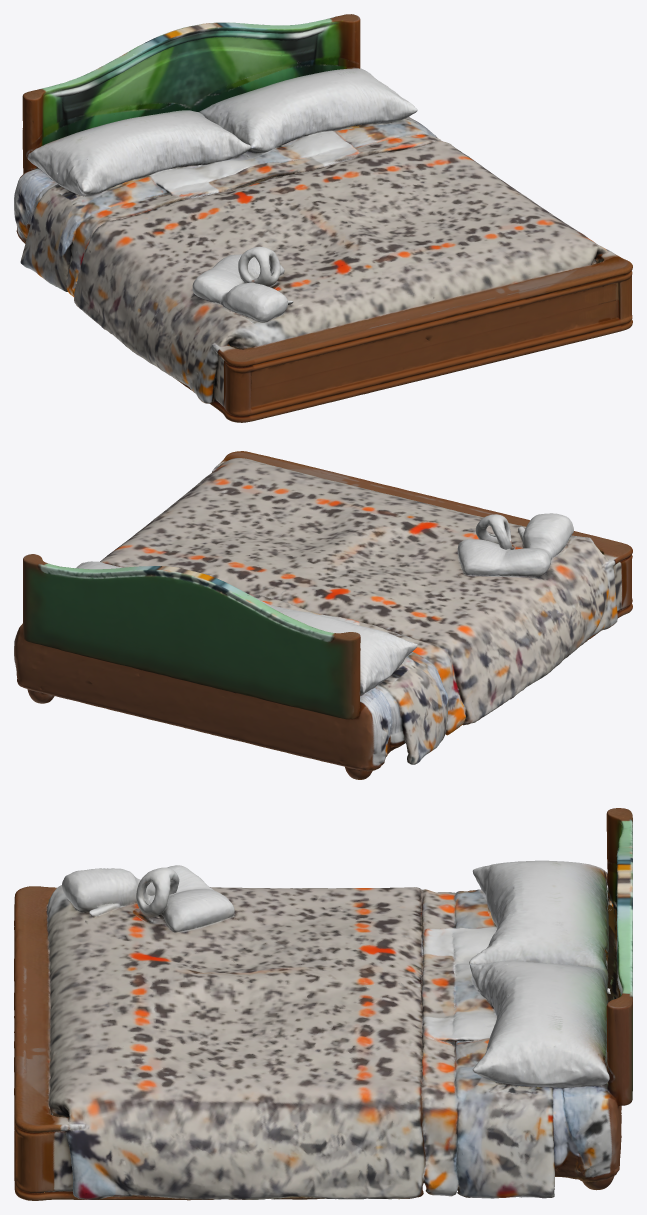
Rendered from habPuerta.glb.
3 renders of one model, top to bottom at view 1: azimuth 30°, elevation 25°; view 2: azimuth 150°, elevation 25°; view 3: azimuth 270°, elevation 25°, orthographic. The views are drawn at different scales.
Bounding box in the file's own units: 1.83 × 0.7324 × 1.9.
Materials: 1 (1 with a texture image).
